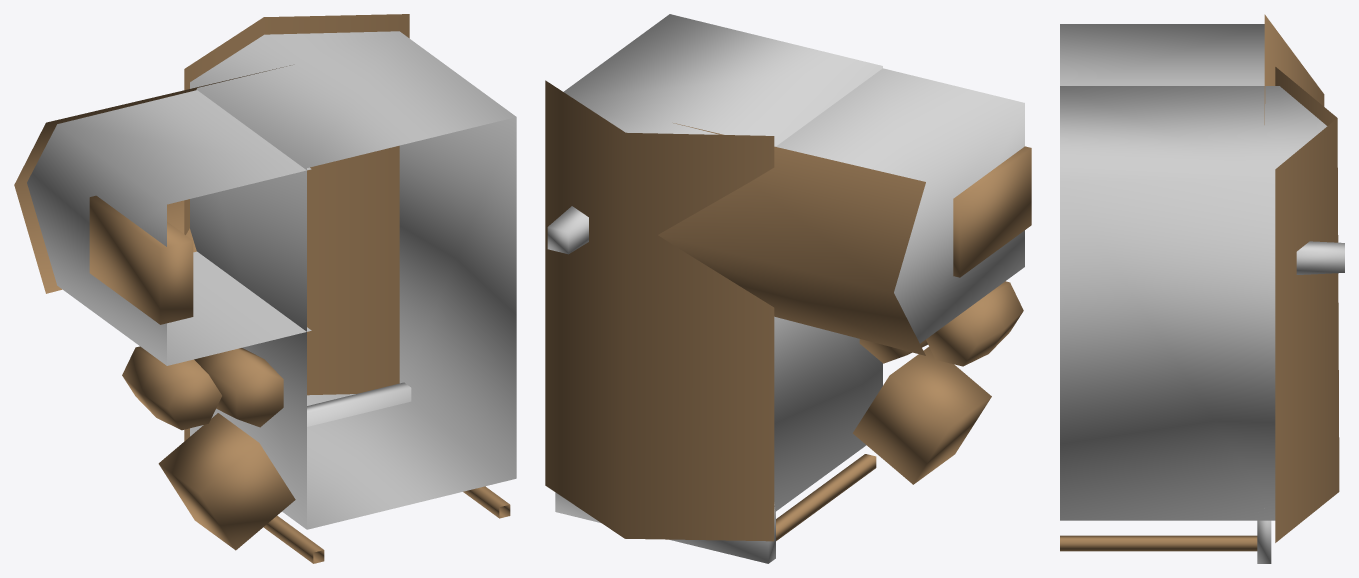
The model's file is House.fbx.
3 renders of one model, left to right at view 1: azimuth 30°, elevation 25°; view 2: azimuth 150°, elevation 25°; view 3: azimuth 270°, elevation 25°, orthographic. The views are drawn at different scales.
Parts seen in each view (by area): view 1: House; view 2: House; view 3: House.
Boxes of the visible parts, x1,y1,x2,y2 form: House: (14,14,516,563); House: (545,14,1031,563); House: (1060,14,1344,563).
Bounding box in the file's own units: 3.52 × 3.87 × 2.51.
